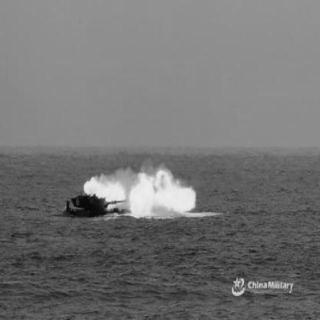Fire: (82, 162, 200, 220)
